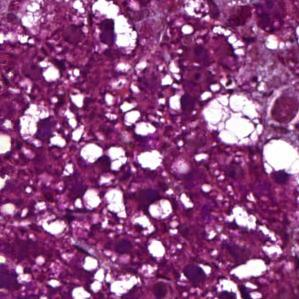ballooning: (200, 92, 265, 146), (259, 138, 299, 185)
